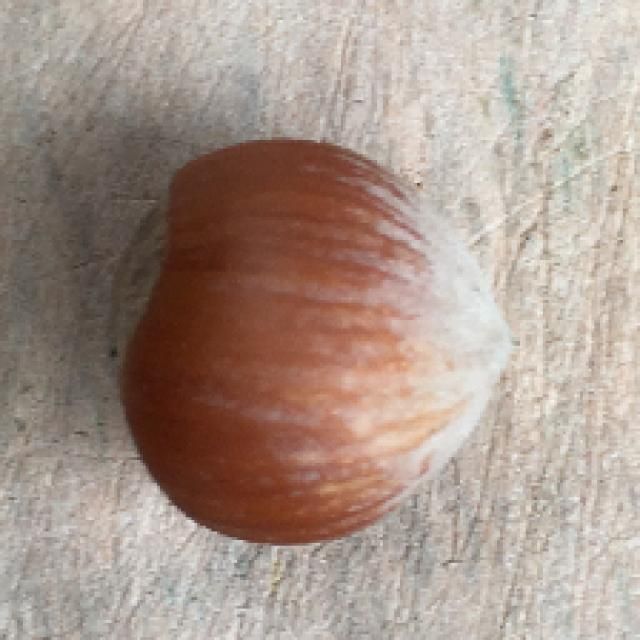qualityHazelnut: (110, 138, 518, 548)
